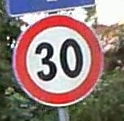limite 30: (10, 14, 104, 106)
